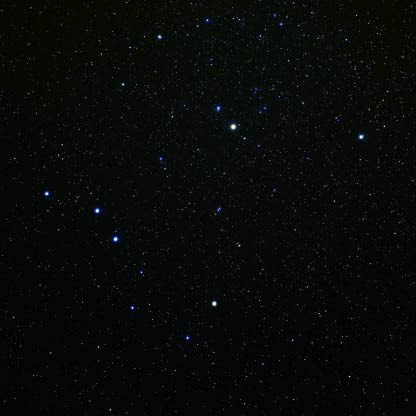Ursa Major: (206, 293, 231, 316), (85, 200, 111, 222), (35, 181, 57, 203), (103, 231, 125, 249), (179, 327, 197, 345), (123, 300, 139, 318), (133, 263, 149, 278)
